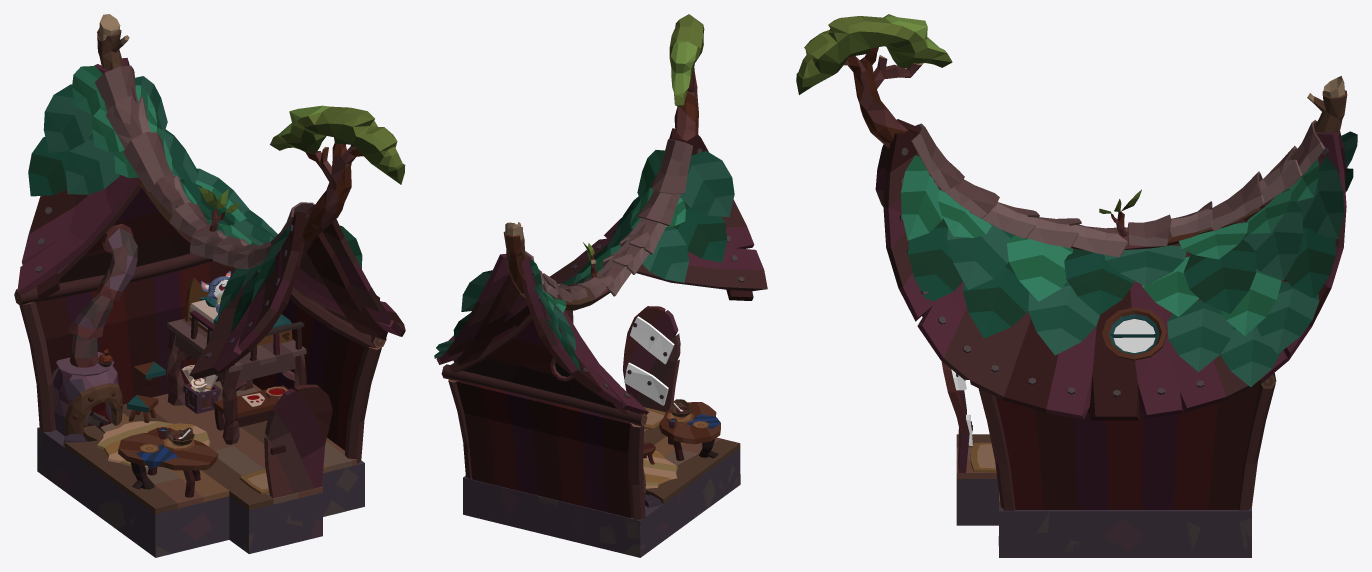
File: 0030_houseOfForest.fbx
3 renders of one model, left to right at view 1: azimuth 30°, elevation 25°; view 2: azimuth 150°, elevation 25°; view 3: azimuth 270°, elevation 25°, orthographic. The views are drawn at different scales.
Parts seen in each view (by area): view 1: Plate, Wall_BottomA, RoofB02, RoofA, Door, RoofB01, Wall_BottomB, Roof_WoodLeaf, FireplaceB, Wall_Top, BedFloor, Roof_Wood2 (+32 smaller); view 2: Wall_BottomA, Plate, RoofA, RoofB01, Wall_Top, RoofB02, Door, fl2, SupportFixtureC, Roof_WoodLeaf, LeafB, Table (+15 smaller); view 3: RoofA, Wall_BottomB, Plate, LeafB (×5), LeafC (×8), LeafA (×3), Roof_WoodLeaf, Roof_Wood2, RoofTileC (×3), LeafA_B3, LeafA_b5, RoofTileA (×2) (+15 smaller).
Boxes of the visible parts, x1,y1,x2,y2 form: Plate: (37,381,364,557); Wall_BottomA: (35,261,231,404); RoofB02: (17,64,138,301); RoofA: (122,57,405,339); Door: (264,384,332,498); RoofB01: (189,211,305,379); Wall_BottomB: (252,299,364,450); Roof_WoodLeaf: (270,105,405,184); FireplaceB: (68,223,137,367); Wall_Top: (59,188,190,282); BedFloor: (167,310,306,382); Roof_Wood2: (180,143,363,268); Wall_BottomA: (456,381,631,517); Plate: (463,407,740,557); RoofA: (436,128,685,366); RoofB01: (636,134,767,300); Wall_Top: (463,320,616,408); RoofB02: (521,257,648,414); Door: (623,306,680,412); fl2: (680,151,734,217); SupportFixtureC: (441,364,647,426); Roof_WoodLeaf: (669,14,704,106); LeafB: (672,201,727,262); Table: (659,402,720,460); RoofA: (883,130,1346,420); Wall_BottomB: (995,385,1258,509); Plate: (956,434,1251,557); LeafB (×5): (908,218,1335,338); LeafC (×8): (901,155,1319,335); LeafA (×3): (1028,201,1303,387); Roof_WoodLeaf: (796,14,952,94); Roof_Wood2: (844,47,1157,249); RoofTileC (×3): (970,145,1302,248); LeafA_B3: (1167,300,1233,371); LeafA_b5: (947,224,1012,289); RoofTileA (×2): (934,171,1264,231).
Bounding box in the file's own units: 12.87 × 20.04 × 20.46.
